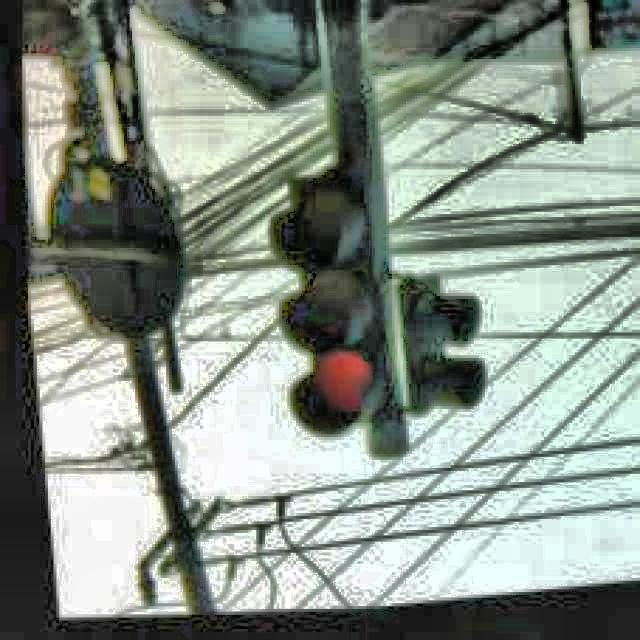red: (279, 183, 389, 440)
